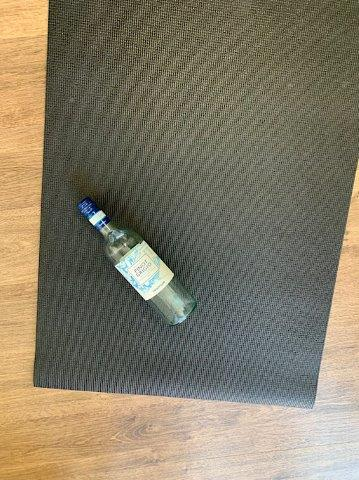botolkaca: (75, 197, 199, 327)
